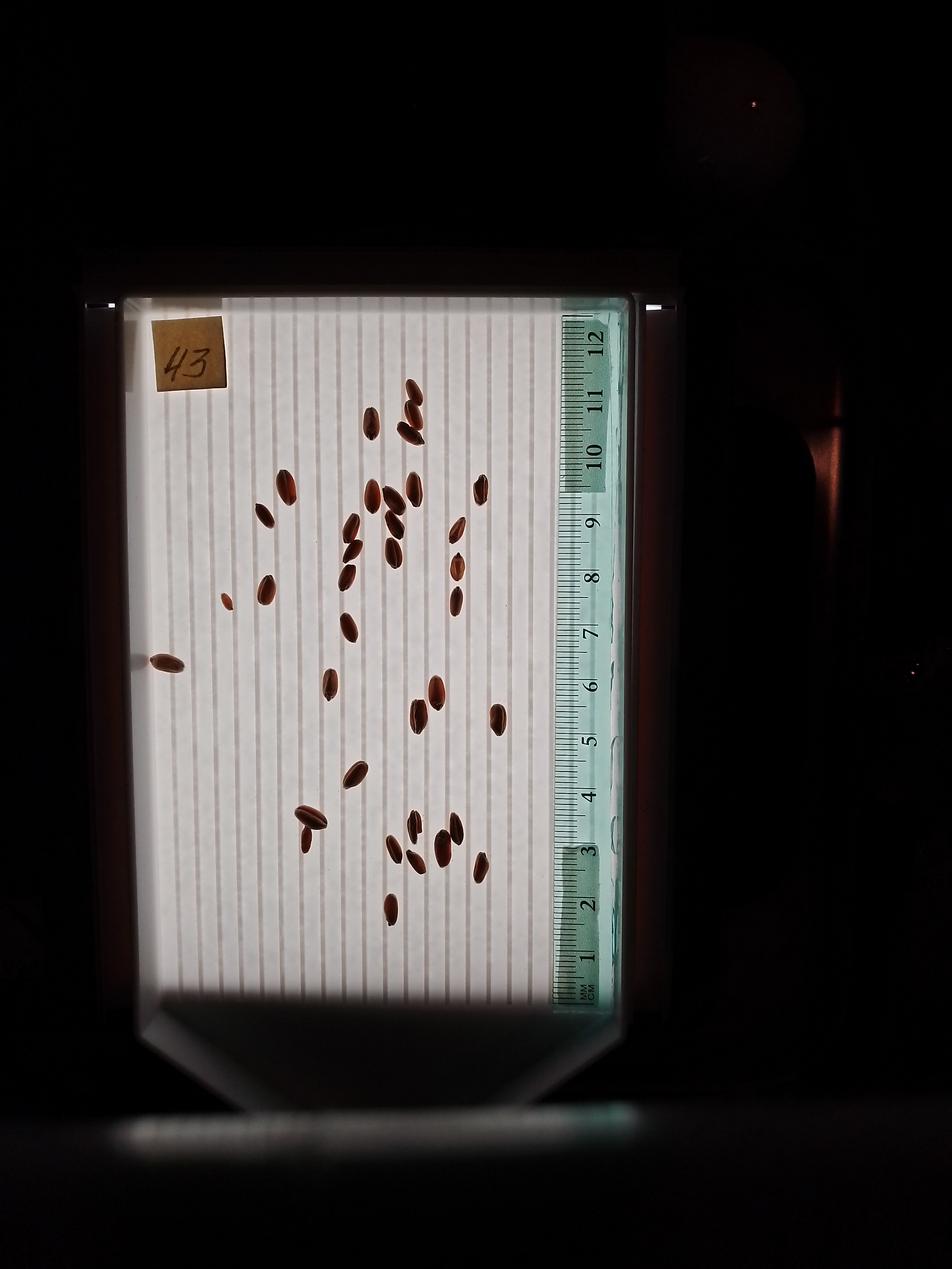seed mask: (295, 805, 327, 831), (276, 470, 297, 506), (343, 761, 368, 789), (383, 486, 406, 516), (150, 654, 184, 674), (428, 676, 446, 711), (410, 699, 428, 733), (434, 831, 451, 867), (398, 422, 423, 446), (364, 480, 381, 514), (406, 473, 423, 507), (363, 407, 380, 440), (404, 401, 423, 430), (489, 704, 506, 735), (340, 614, 358, 643), (407, 811, 423, 843), (385, 539, 402, 569), (322, 669, 338, 700), (258, 576, 275, 605), (473, 476, 489, 506), (343, 514, 360, 542), (449, 814, 464, 845), (255, 504, 274, 528), (407, 851, 426, 875), (474, 853, 489, 883), (406, 379, 423, 405), (387, 512, 404, 538), (339, 565, 356, 591), (449, 517, 466, 543), (384, 894, 398, 925), (343, 540, 362, 562), (387, 836, 402, 863), (450, 555, 465, 580), (450, 588, 463, 615), (300, 826, 312, 853)
